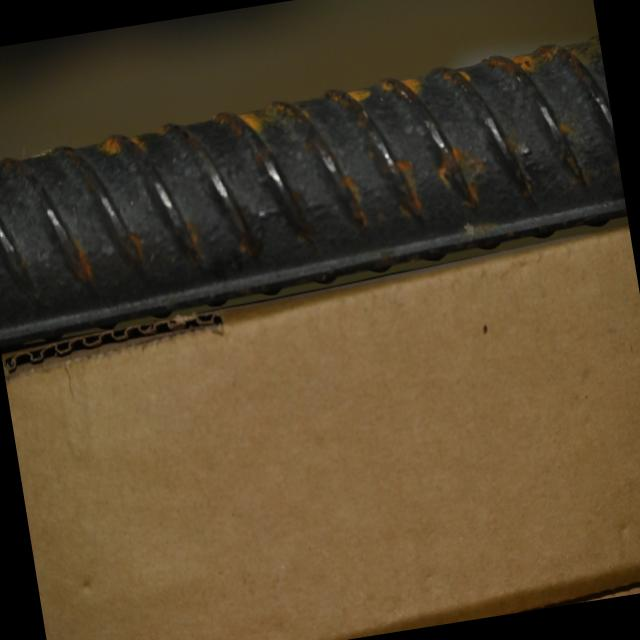ribbed bar: (0, 31, 633, 359)
